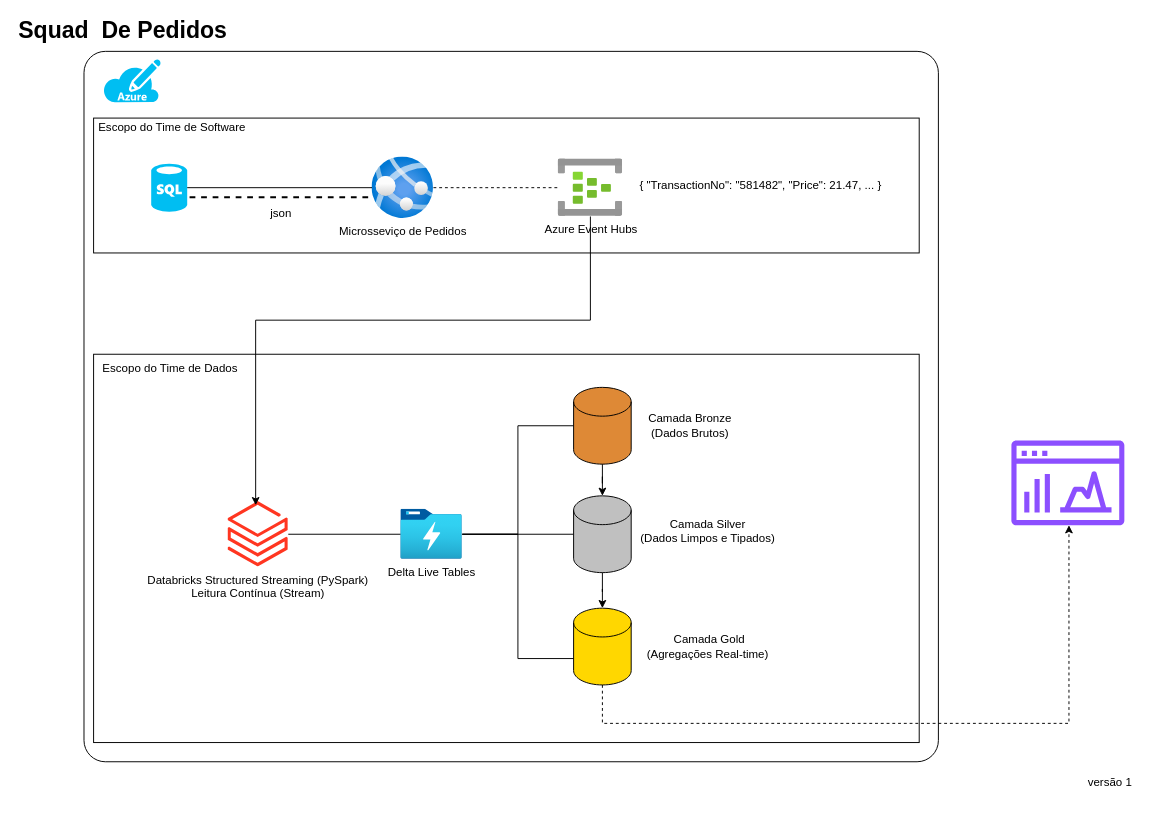
Image size: 1155x813. Some labels were removed from this diagram. Each missing label, with the box of its shape:
Metabase: (1011, 440, 1124, 525)
Sales Transaction: (151, 163, 187, 211)
